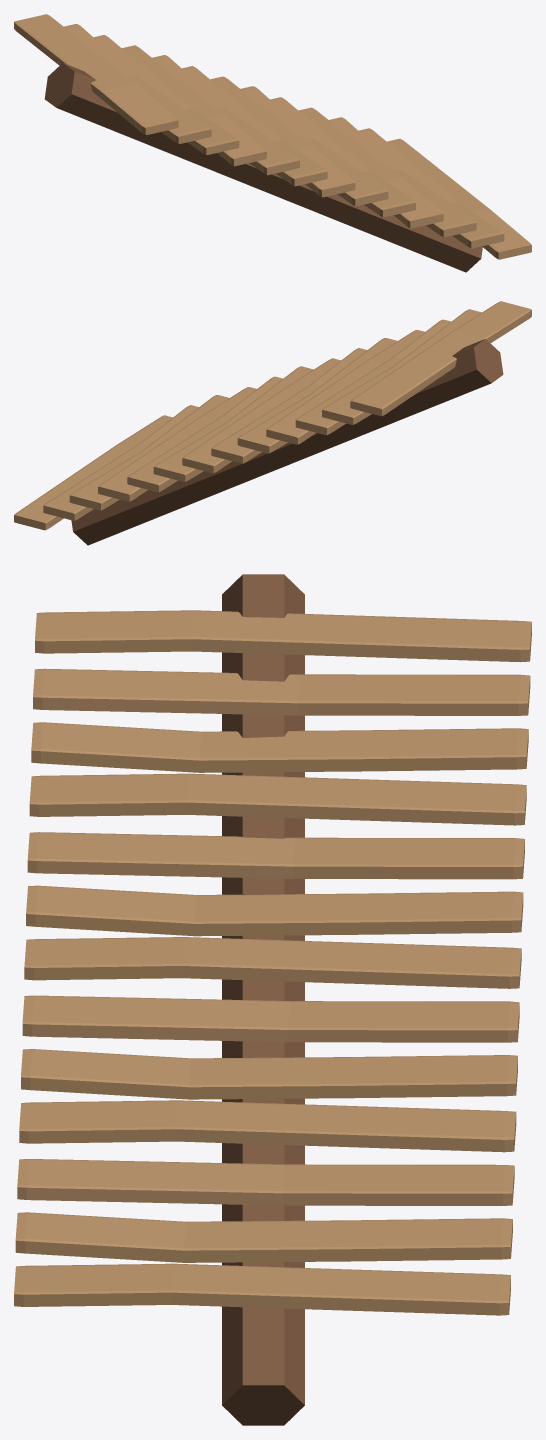
Rendered from Staircase_wood_Big.fbx.
3 views of the same model, one above another, from view 1: azimuth 30°, elevation 25°; view 2: azimuth 150°, elevation 25°; view 3: azimuth 270°, elevation 25° (orthographic). The views are drawn at different scales.
Parts seen in each view (by area): view 1: Staircase_wood_Big; view 2: Staircase_wood_Big; view 3: Staircase_wood_Big.
Boxes of the visible parts, bbox=[...] form: Staircase_wood_Big: bbox=[14, 14, 531, 272]; Staircase_wood_Big: bbox=[14, 301, 531, 545]; Staircase_wood_Big: bbox=[14, 574, 531, 1425].
Bounding box in the file's own units: 221 × 367 × 243.
